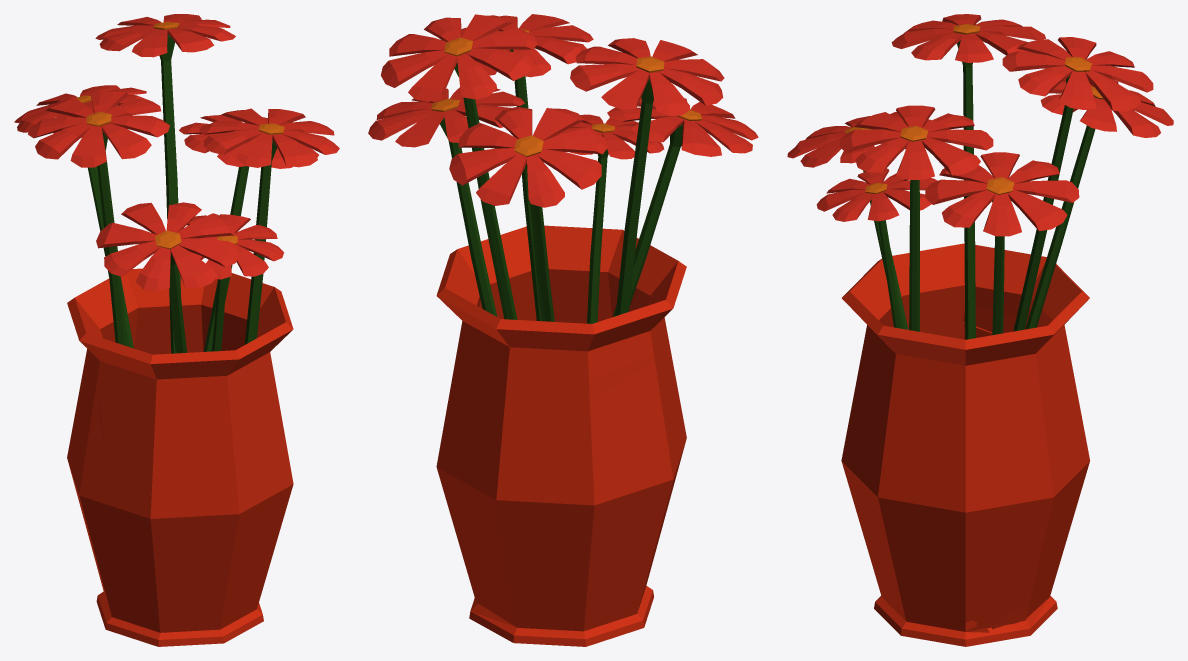
The model's file is vas (1).glb.
3 renders of one model, left to right at view 1: azimuth 30°, elevation 25°; view 2: azimuth 150°, elevation 25°; view 3: azimuth 270°, elevation 25°, orthographic. The views are drawn at different scales.
Parts seen in each view (by area): view 1: node_id5, node_id41, mesh_id93, mesh_id83, mesh_id103, mesh_id113, mesh_id108, node_id32, mesh_id111, node_id20, mesh_id81, mesh_id101 (+9 smaller); view 2: node_id5, node_id38, mesh_id98, mesh_id113, node_id35, mesh_id83, mesh_id88, mesh_id93, node_id32, node_id41, node_id53, node_id20 (+12 smaller); view 3: node_id5, node_id32, mesh_id88, mesh_id103, mesh_id113, node_id38, mesh_id83, mesh_id108, node_id26, node_id44, mesh_id98, node_id41 (+14 smaller).
Part boxes in pixels (x1,y1,x2,y2): node_id5: (67, 268, 292, 646); node_id41: (101, 350, 286, 534); mesh_id93: (96, 202, 239, 291); mesh_id83: (28, 91, 169, 167); mesh_id103: (199, 108, 339, 167); mesh_id113: (95, 14, 235, 57); mesh_id108: (187, 214, 283, 279); node_id32: (236, 286, 293, 384); mesh_id111: (159, 34, 180, 353); node_id20: (74, 274, 186, 379); mesh_id81: (97, 131, 127, 346); mesh_id101: (244, 139, 277, 344); node_id5: (436, 225, 686, 646); node_id38: (438, 260, 655, 463); mesh_id98: (449, 107, 607, 207); mesh_id113: (381, 14, 537, 101); node_id35: (518, 363, 669, 504); mesh_id83: (570, 38, 724, 116); mesh_id88: (368, 87, 524, 147); mesh_id93: (607, 97, 758, 156); node_id32: (446, 225, 610, 320); node_id41: (610, 230, 686, 495); node_id53: (466, 536, 549, 610); node_id20: (438, 269, 681, 378); node_id5: (841, 243, 1089, 646); node_id32: (848, 294, 998, 473); mesh_id88: (925, 152, 1079, 236); mesh_id103: (839, 105, 993, 179); mesh_id113: (1002, 37, 1153, 111); node_id38: (963, 307, 1083, 444); mesh_id83: (891, 14, 1045, 62); mesh_id108: (816, 168, 937, 221); node_id26: (865, 470, 933, 578); node_id44: (929, 509, 1005, 581); mesh_id98: (1040, 78, 1173, 137); node_id41: (841, 255, 909, 511).
Bounding box in the file's own units: 0.2844 × 0.512 × 0.3139.
Materials: 46 (46 with a texture image).
